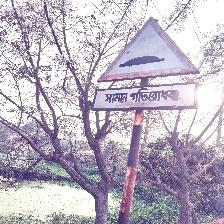Speed-breaker: (95, 17, 201, 113)
